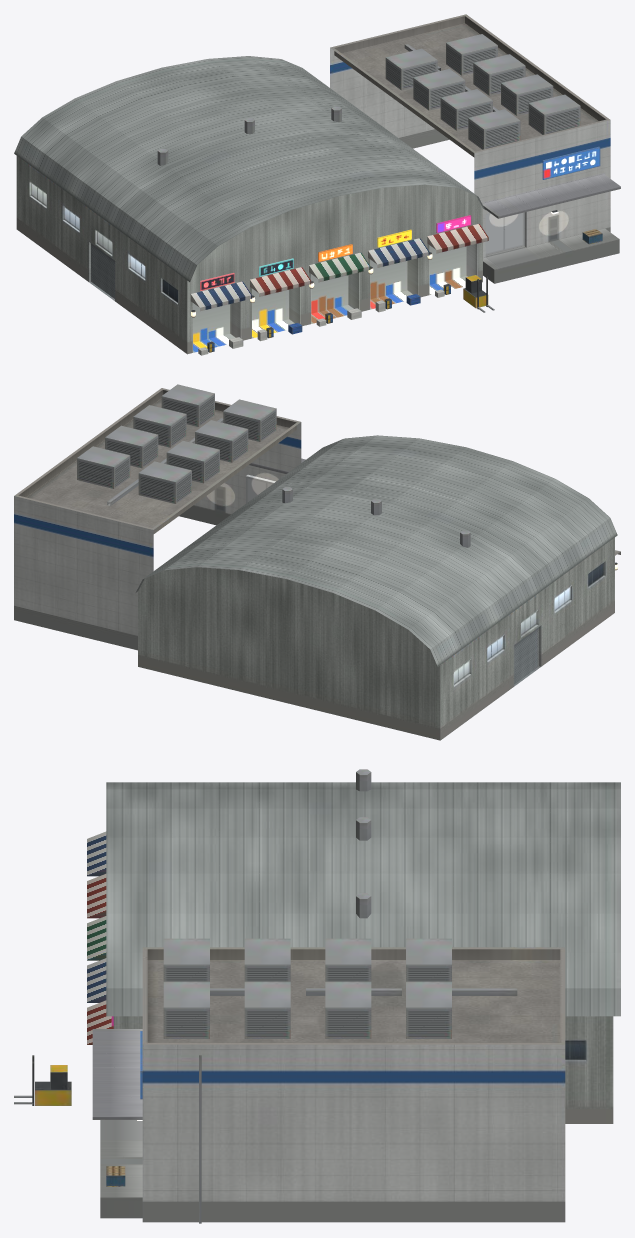
File: tokyo_warehouse_b.glb
The picture shows the model from 3 angles, top to bottom: view 1: azimuth 30°, elevation 25°; view 2: azimuth 150°, elevation 25°; view 3: azimuth 270°, elevation 25°; orthographic projection. The views are drawn at different scales.
Parts seen in each view (by area): view 1: tokyo_warehouse_b; view 2: tokyo_warehouse_b; view 3: tokyo_warehouse_b.
Part boxes in pixels (x1,y1,x2,y2): tokyo_warehouse_b: (14,14,620,355); tokyo_warehouse_b: (14,384,620,740); tokyo_warehouse_b: (14,769,620,1223).
Size of the model in its own units: 38.27 by 11.4 by 31.6.
1 material, 1 textured.
